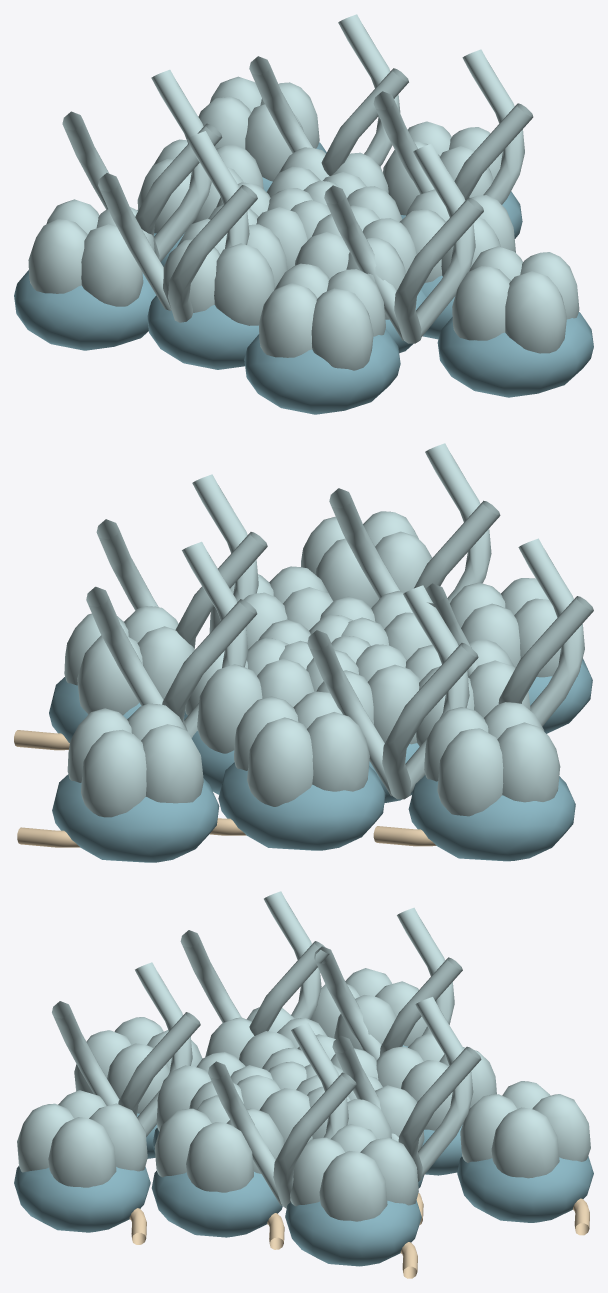
Rendered from bio_oxygen_reef_14_far.glb.
3 renders of one model, top to bottom at view 1: azimuth 30°, elevation 25°; view 2: azimuth 150°, elevation 25°; view 3: azimuth 270°, elevation 25°, orthographic. The views are drawn at different scales.
Visible parts, largest first — view 1: Lobed gas sac.040, Lobed gas sac.028, Spiral filament.006, Lobed gas sac.036, Spiral filament.012, Photosynthetic cushion.007, Photosynthetic cushion.010, Spiral filament.003, Lobed gas sac.016, Spiral filament, Spiral filament.009, Photosynthetic cushion.009 (+10 smaller); view 2: Lobed gas sac.036, Lobed gas sac.044, Lobed gas sac.024, Spiral filament.003, Spiral filament.009, Photosynthetic cushion.011, Photosynthetic cushion.006, Photosynthetic cushion.009, Lobed gas sac.032, Spiral filament.006, Spiral filament.012, Lobed gas sac.012 (+14 smaller); view 3: Lobed gas sac.040, Lobed gas sac.044, Lobed gas sac.032, Lobed gas sac.020, Spiral filament.009, Spiral filament, Spiral filament.006, Spiral filament.012, Photosynthetic cushion.010, Photosynthetic cushion.011, Photosynthetic cushion.008, Spiral filament.003 (+14 smaller).
Boxes of the visible parts, x1,y1,x2,y2 form: Lobed gas sac.040: (452,246,579,353); Lobed gas sac.028: (258,263,385,370); Spiral filament.006: (324,143,483,343); Lobed gas sac.036: (28,199,154,306); Spiral filament.012: (98,131,257,322); Photosynthetic cushion.007: (244,329,400,414); Photosynthetic cushion.010: (437,312,593,397); Spiral filament.003: (62,69,222,261); Lobed gas sac.016: (163,218,287,325); Spiral filament: (373,49,533,204); Spiral filament.009: (249,14,408,175); Photosynthetic cushion.009: (14,270,156,350); Lobed gas sac.036: (424,702,560,816); Lobed gas sac.044: (67,703,203,817); Lobed gas sac.024: (234,691,369,806); Spiral filament.003: (307,585,478,799); Spiral filament.009: (86,541,257,738); Photosynthetic cushion.011: (52,774,219,862); Photosynthetic cushion.006: (218,762,385,850); Photosynthetic cushion.009: (408,775,575,861); Lobed gas sac.032: (64,606,194,715); Spiral filament.006: (329,443,500,603); Spiral filament.012: (425,538,593,726); Lobed gas sac.012: (185,638,314,753); Lobed gas sac.040: (17,1090,147,1187); Lobed gas sac.044: (460,1081,590,1178); Lobed gas sac.032: (290,1124,418,1221); Lobed gas sac.020: (154,1095,283,1192); Spiral filament.009: (332,997,481,1181); Spiral filament: (208,1022,356,1208); Spiral filament.006: (52,962,200,1136); Spiral filament.012: (180,891,329,1035); Photosynthetic cushion.010: (14,1166,150,1232); Photosynthetic cushion.011: (457,1156,593,1222); Photosynthetic cushion.008: (285,1200,421,1266); Spiral filament.003: (314,907,462,1060).
Bounding box in the file's own units: 1.85 × 0.7508 × 2.03.
